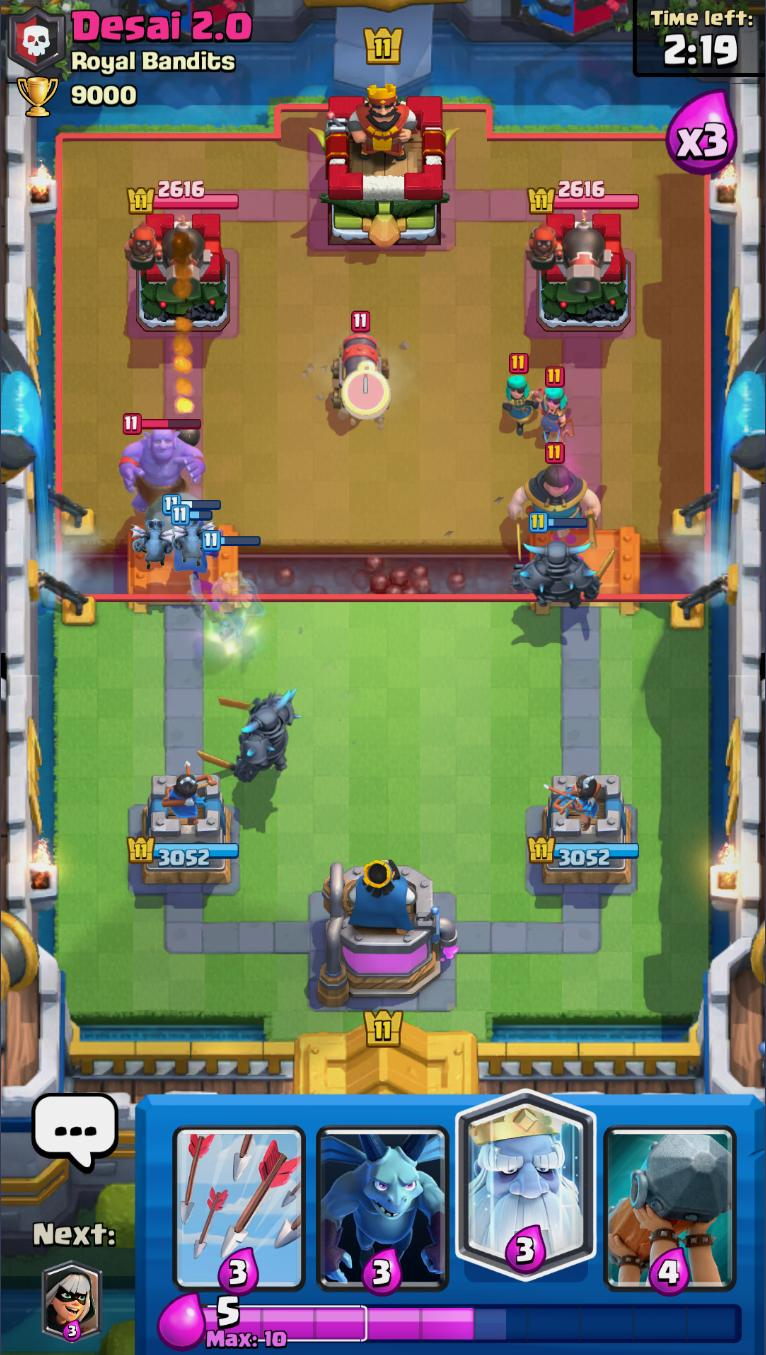ArrowDeck: (168, 1094, 311, 1295)
BanditNext: (40, 1264, 105, 1341)
Bowler: (119, 413, 205, 516)
CannonCart: (335, 266, 391, 373)
Cannoneer: (526, 212, 607, 298), (124, 214, 207, 297)
Elixir: (200, 1296, 745, 1350)
EnemyTower: (524, 209, 633, 333), (125, 207, 231, 332)
KingTower: (310, 81, 461, 249)
MinionsDeck: (310, 1094, 456, 1295)
MyBattleRam: (600, 1095, 740, 1295)
MyKingTower: (314, 855, 460, 1007)
MyMinion: (169, 505, 214, 569), (132, 515, 182, 567)
MyPekka: (512, 512, 620, 612), (198, 688, 300, 785)
MyPrincessTower: (527, 770, 641, 886), (128, 773, 242, 888)
MyPrincessTowerHP: (127, 836, 240, 867), (527, 837, 640, 866)
MyRoyaleGhost: (189, 535, 263, 648)
RascalM: (509, 444, 602, 548)
RascalW: (501, 353, 546, 439), (536, 370, 575, 449)
RoyaleGhostDeck: (456, 1095, 601, 1295)
TowerPrincessHP: (127, 178, 240, 212), (529, 179, 641, 211)
